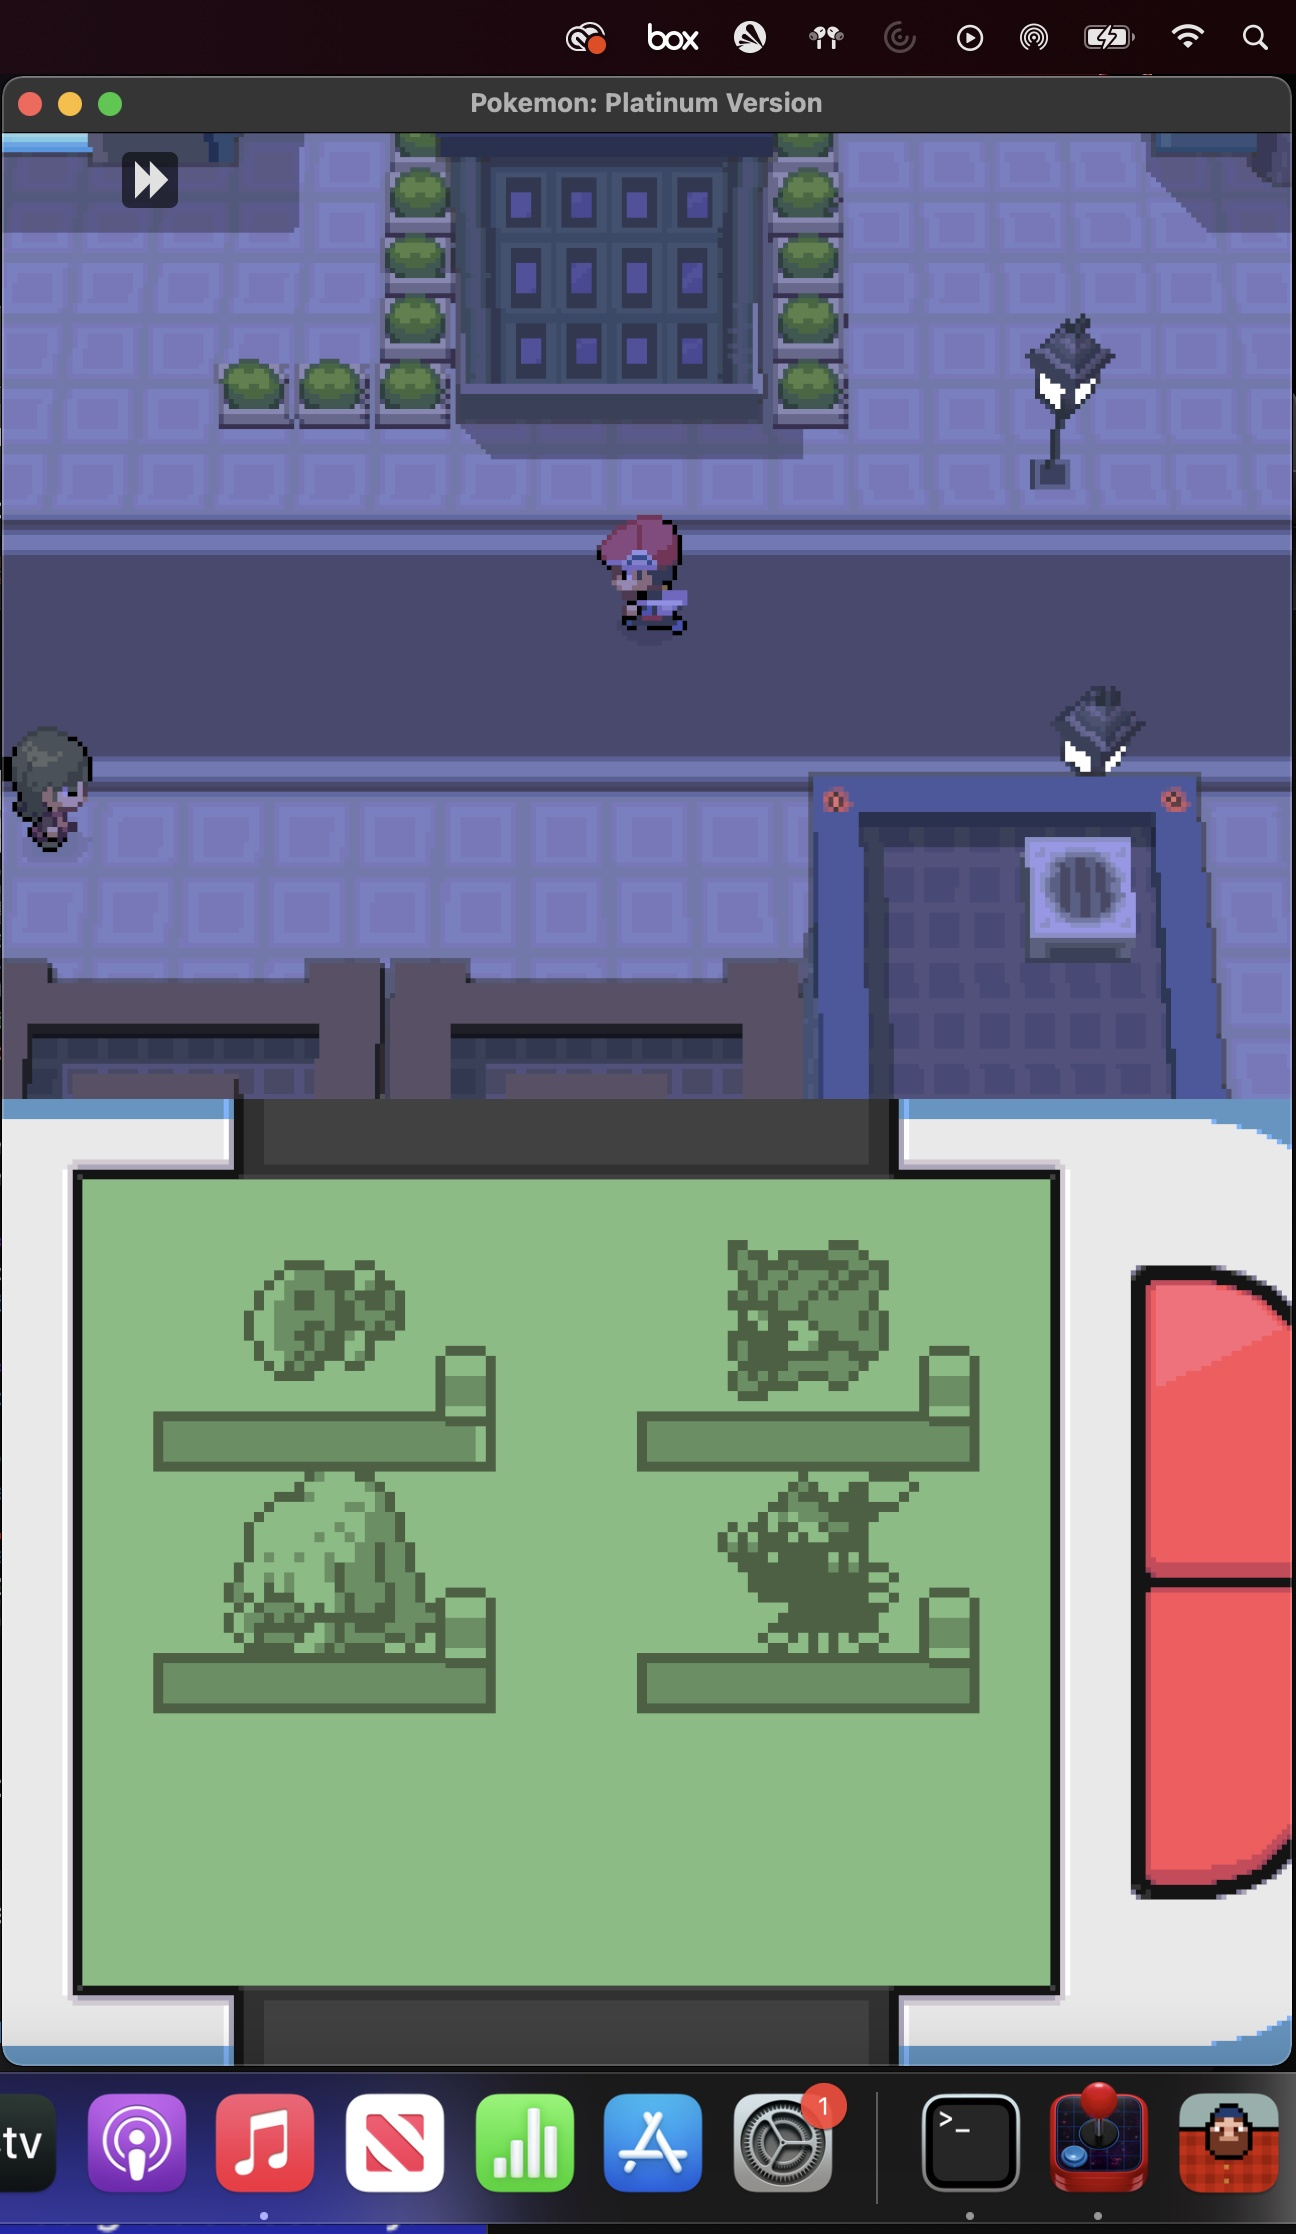player: (576, 515, 702, 636)
